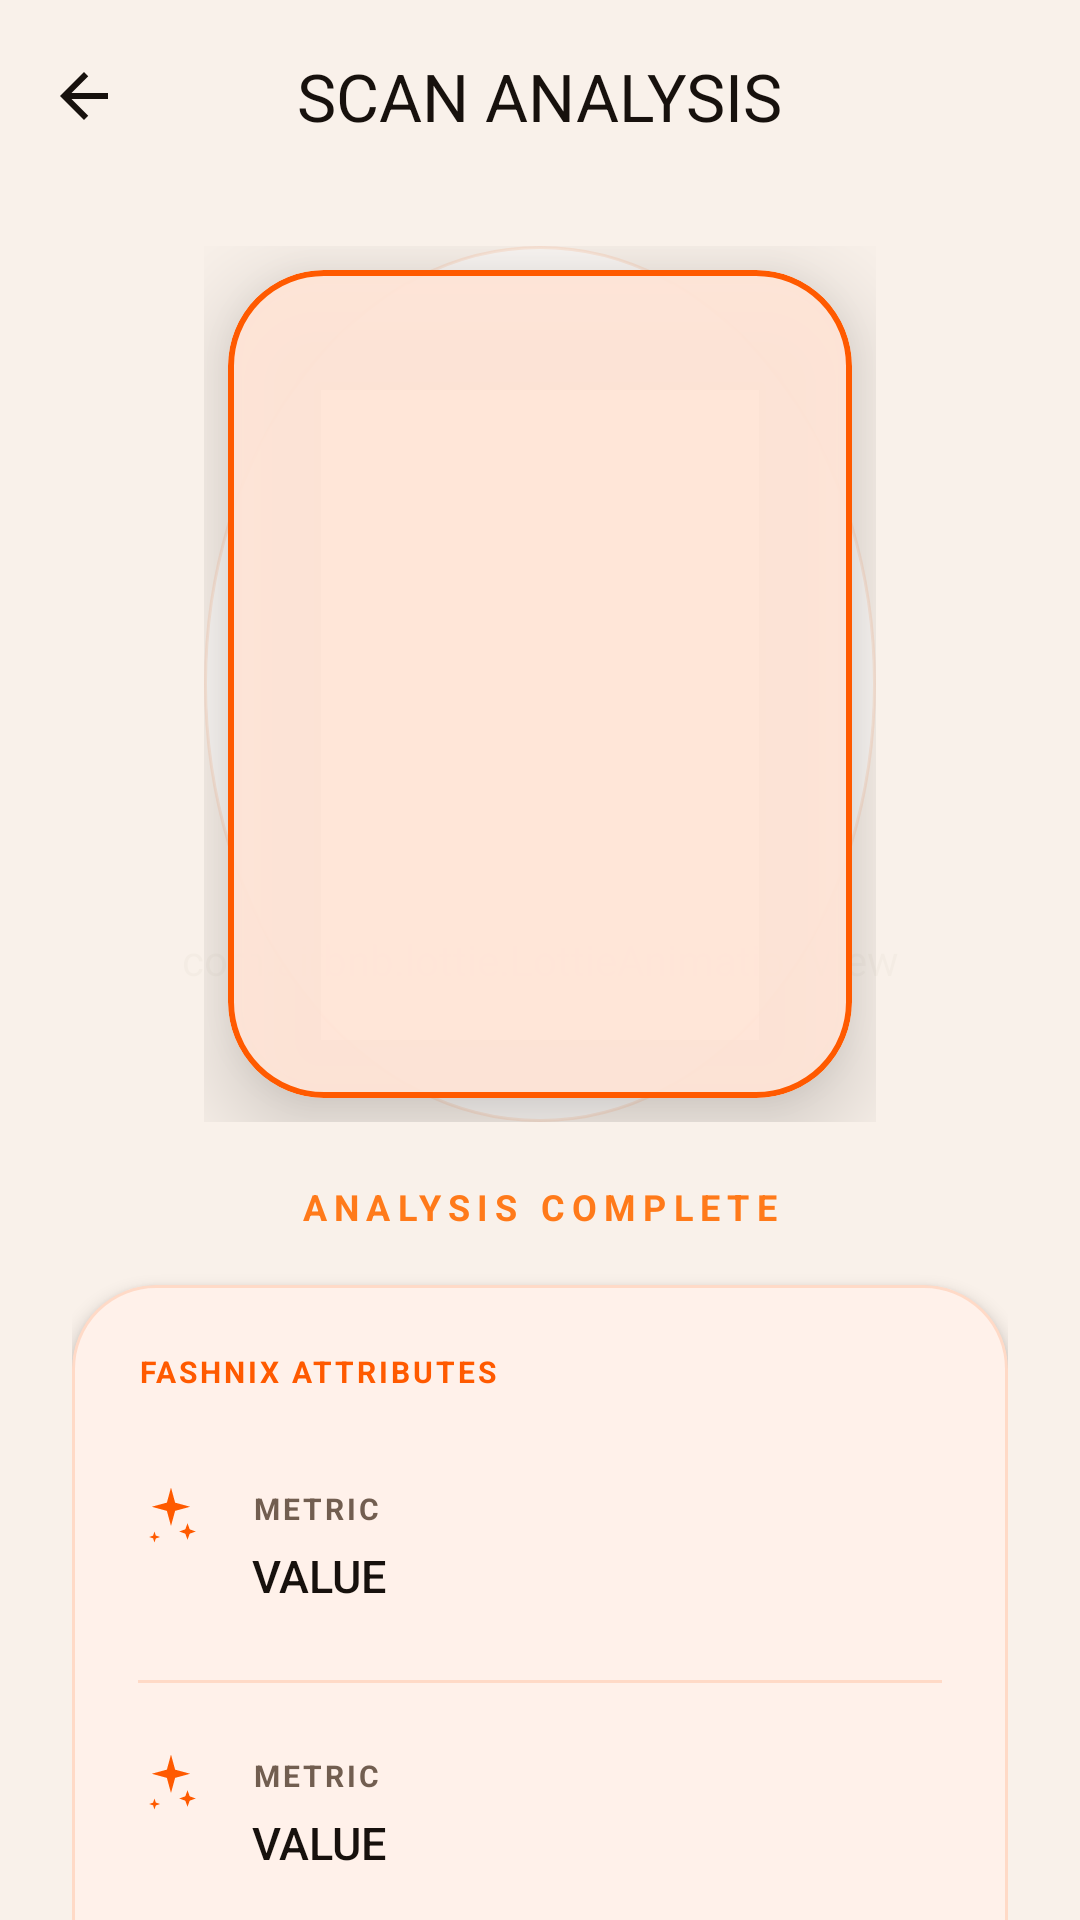

Point at icon controls on the screen. Image size 1080px×1920px, points as [x,y].
sparkle: [172,1515], [172,1782]
